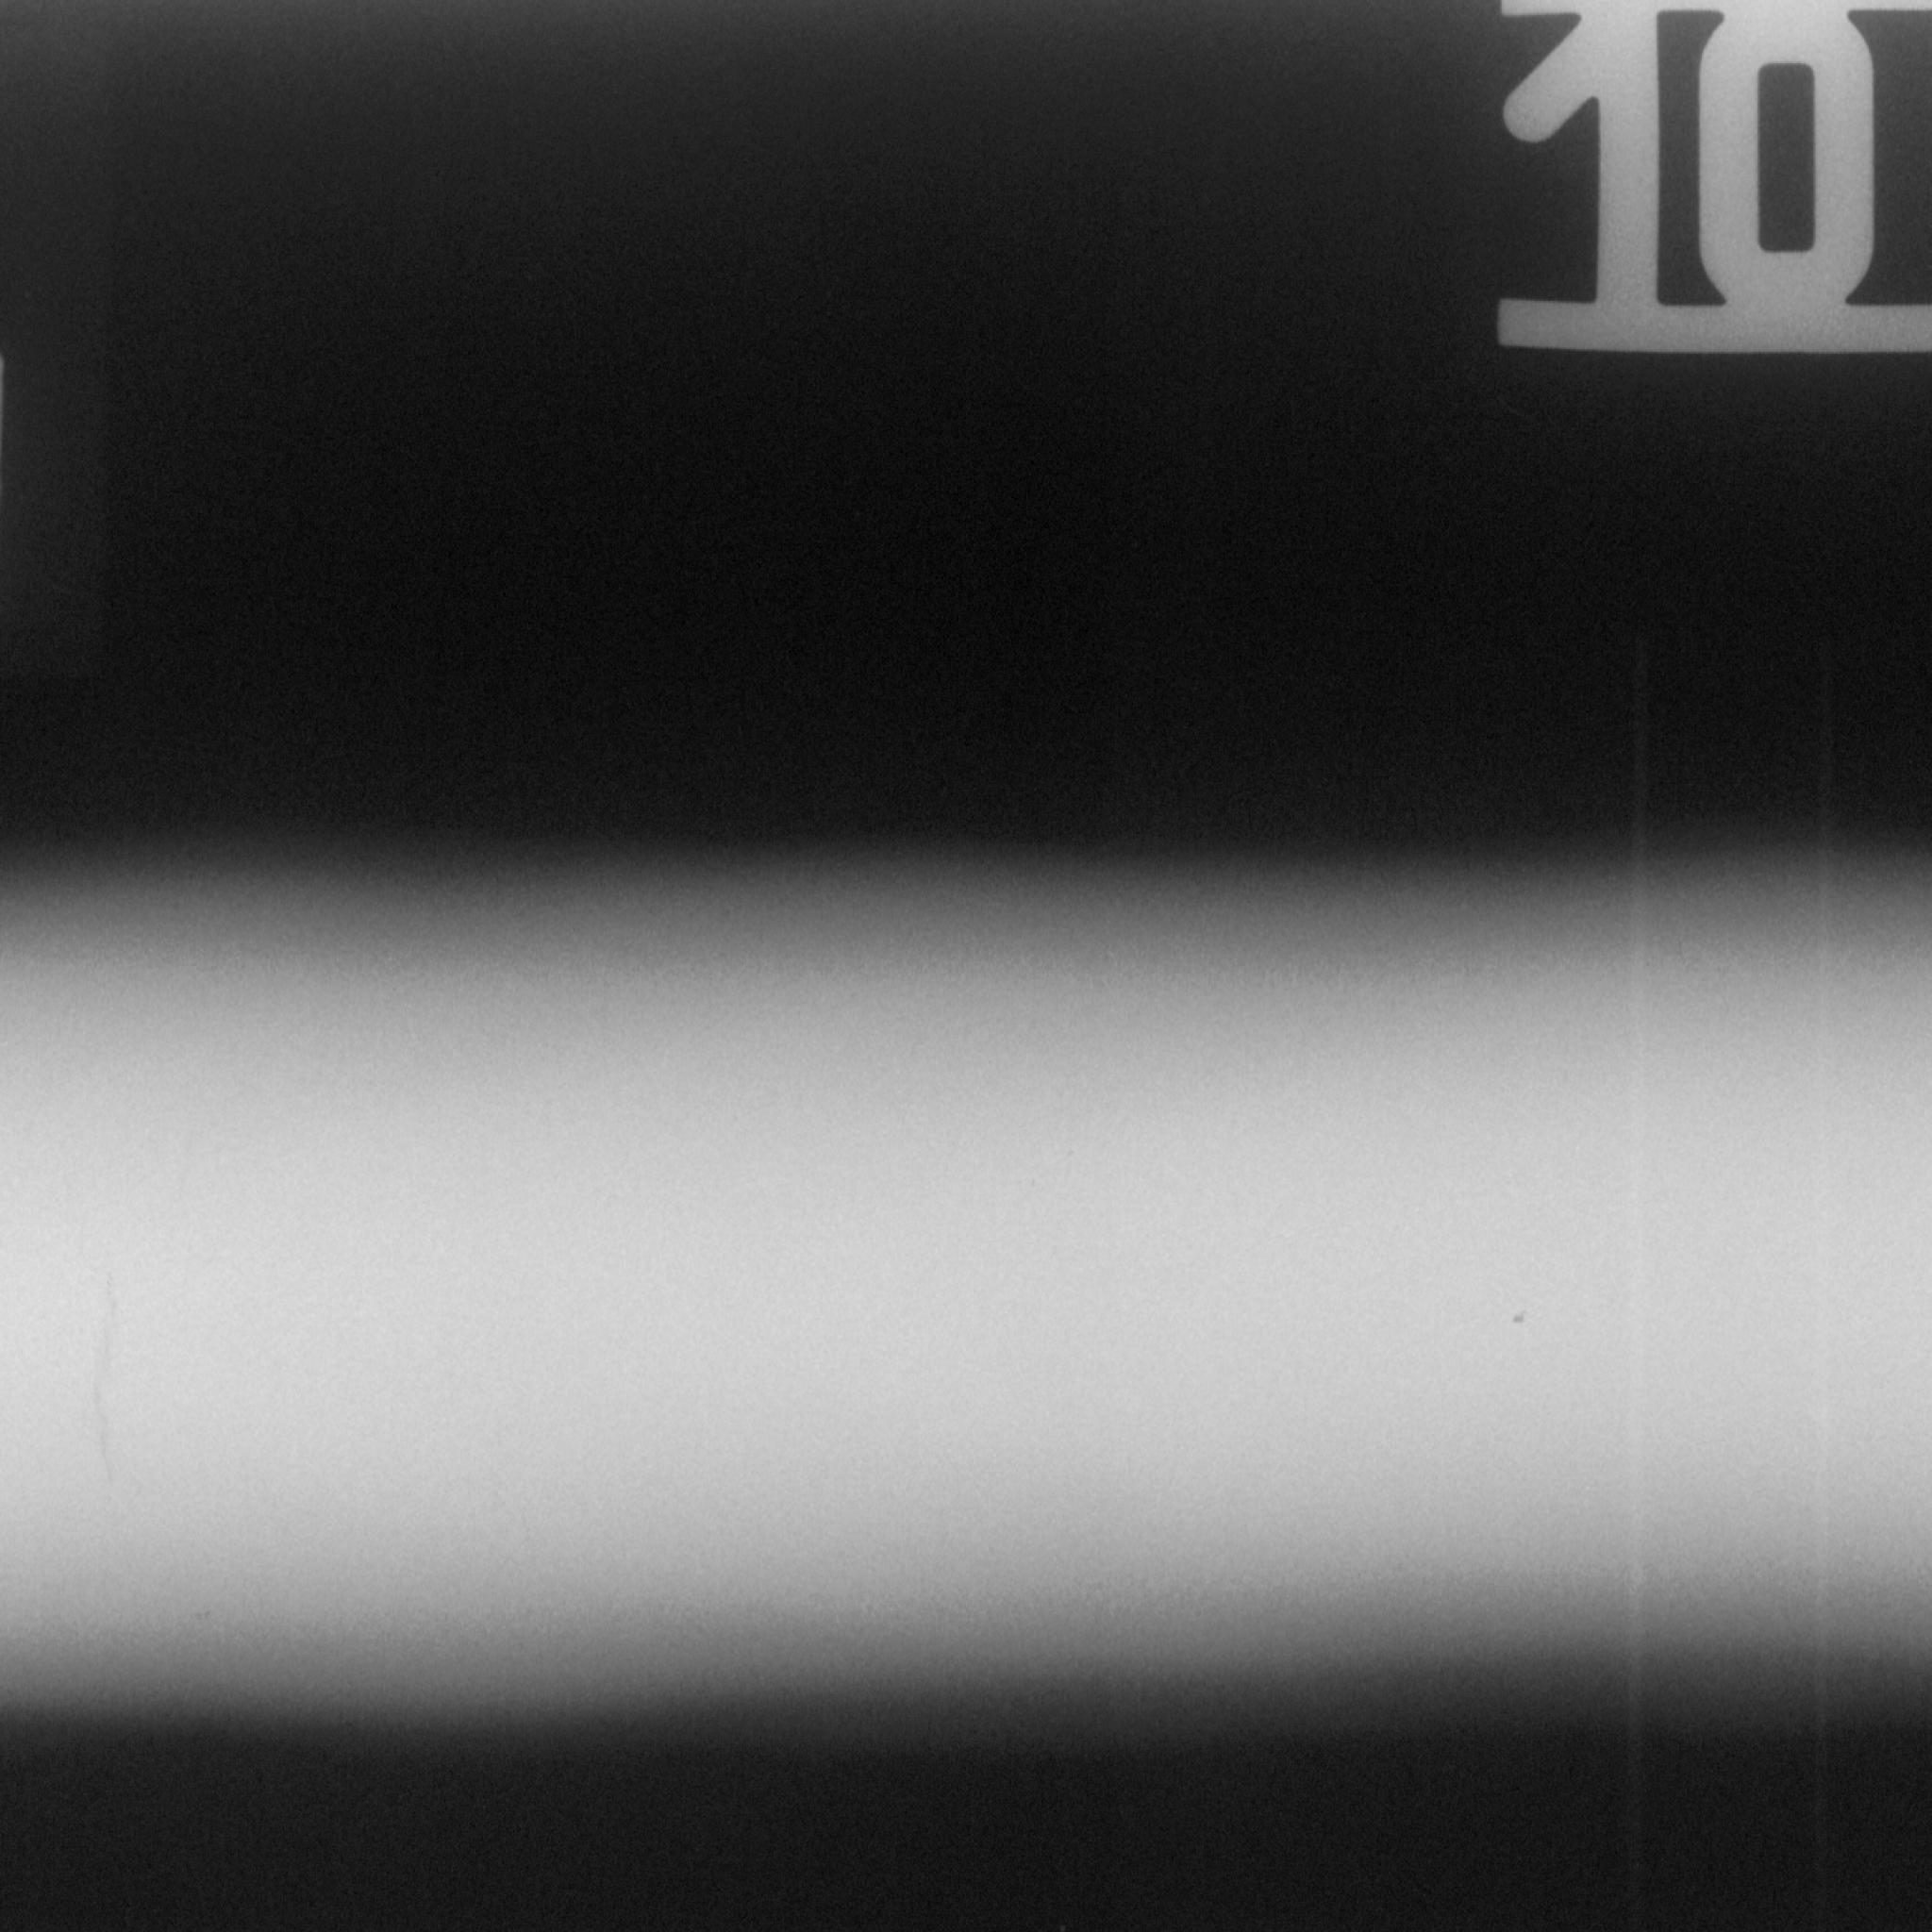PO: (1500, 1297, 1548, 1353)
TR: (0, 1083, 211, 1628)
